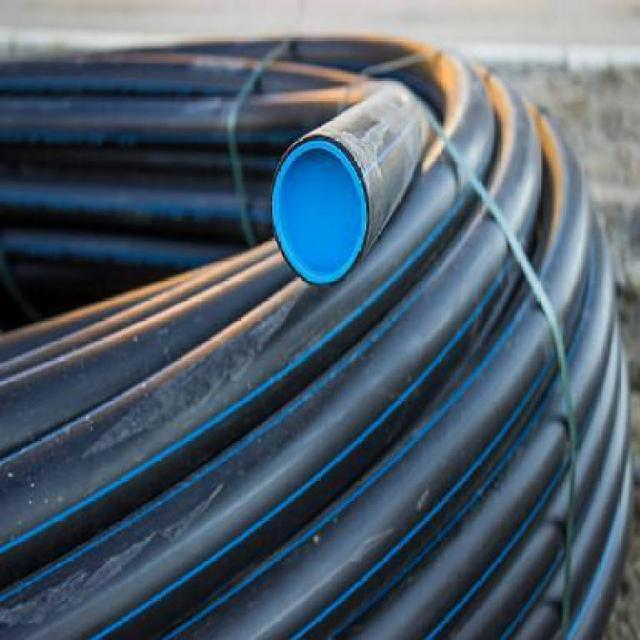pipe: (269, 136, 369, 290)
